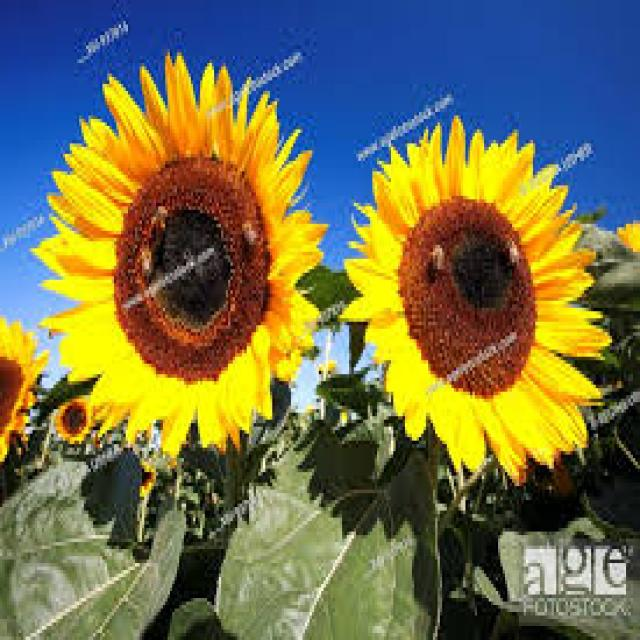sunflower: (24, 42, 330, 478), (337, 107, 620, 493), (0, 290, 42, 486), (48, 388, 106, 453), (606, 215, 640, 276)
